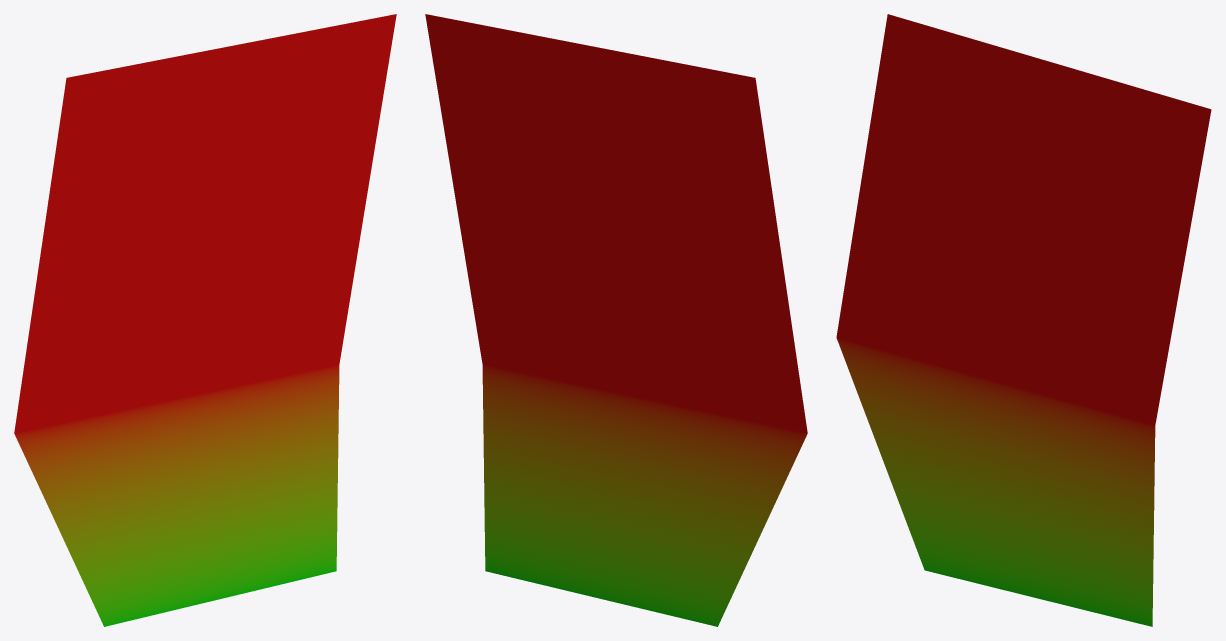
Rendered from Sea Wheatgrass_LOD3_Var1_ui2oagjia.fbx.
The picture shows the model from 3 angles, left to right: view 1: azimuth 30°, elevation 25°; view 2: azimuth 150°, elevation 25°; view 3: azimuth 330°, elevation 25°; orthographic projection.
Visible parts, largest first — view 1: _xg40_Var1_LOD3; view 2: _xg40_Var1_LOD3; view 3: _xg40_Var1_LOD3.
Boxes of the visible parts, <box> form: _xg40_Var1_LOD3: <box>14,14,396,626</box>; _xg40_Var1_LOD3: <box>425,14,807,626</box>; _xg40_Var1_LOD3: <box>836,14,1211,626</box>.
Size of the model in its own units: 64.98 by 90.77 by 9.66e-06.
